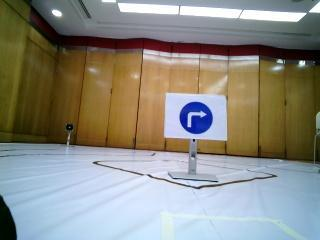right: (165, 94, 227, 138)
